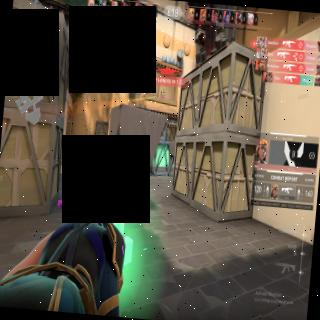ENEMY-BODY: (162, 92, 165, 99)
ENEMY-HEAD: (162, 92, 165, 96)
